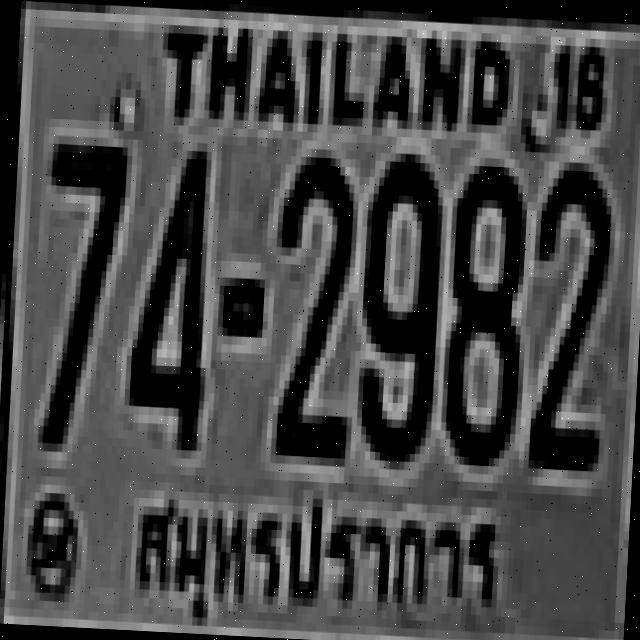2: (522, 156, 612, 468), (268, 148, 358, 458)
4: (122, 144, 212, 446)
7: (33, 136, 128, 447)
8: (440, 156, 524, 458)
9: (353, 148, 443, 458)
SamutPrakan: (126, 482, 510, 640)
